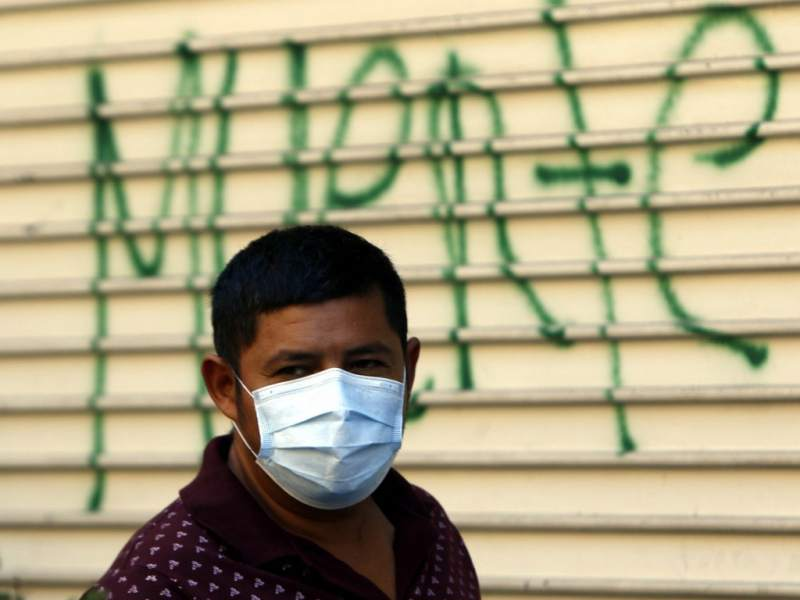with_mask: (218, 248, 435, 514)
